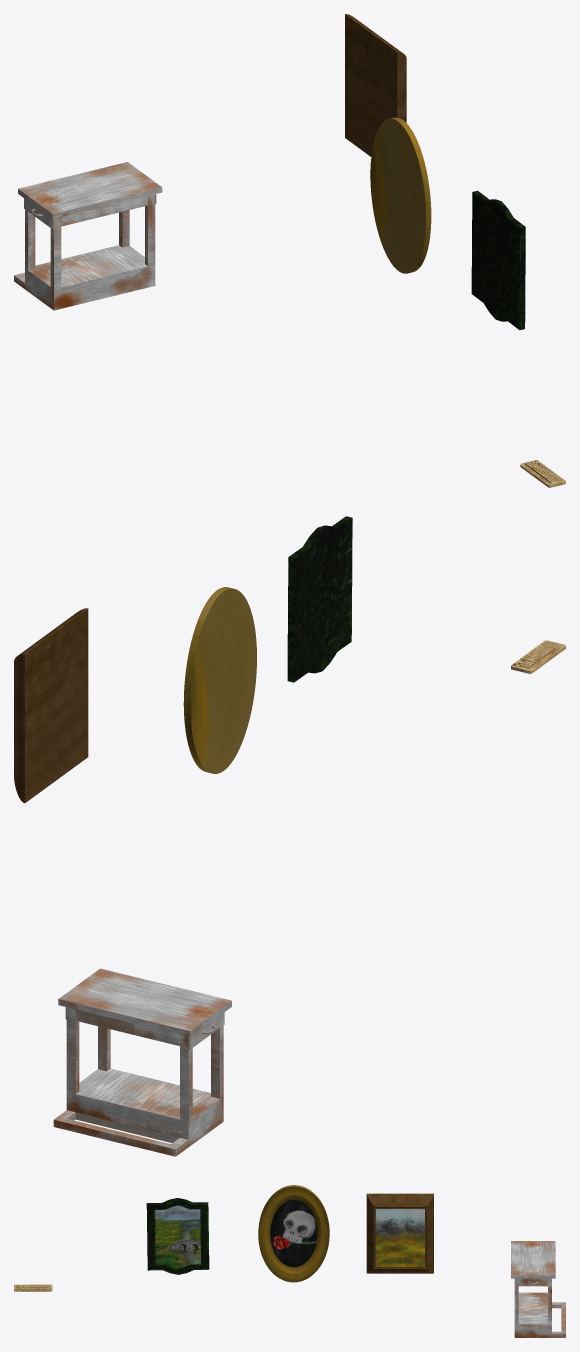
File: DMAssets2.fbx
3 renders of one model, top to bottom at view 1: azimuth 30°, elevation 25°; view 2: azimuth 150°, elevation 25°; view 3: azimuth 270°, elevation 25°, orthographic. The views are drawn at different scales.
Parts seen in each view (by area): view 1: Cube.282, Cylinder.025_Cylinder.031, Cube.040_Cube.039, Cube.005_Cube.038, Cube.419; view 2: Cube.282, Cube.040_Cube.039, Cylinder.025_Cylinder.031, Cube.005_Cube.038, Cube.419; view 3: Cylinder.025_Cylinder.031, Cube.040_Cube.039, Cube.005_Cube.038, Cube.282, Cube.419.
Boxes of the visible parts, x1,y1,x2,y2 form: Cube.282: (14,162,162,310); Cylinder.025_Cylinder.031: (370,117,431,273); Cube.040_Cube.039: (345,14,406,156); Cube.005_Cube.038: (471,190,525,330); Cube.419: (520,460,565,487); Cube.282: (53,968,231,1156); Cube.040_Cube.039: (14,608,88,803); Cylinder.025_Cylinder.031: (183,587,256,773); Cube.005_Cube.038: (287,516,352,682); Cube.419: (511,640,565,673); Cylinder.025_Cylinder.031: (258,1185,329,1282); Cube.040_Cube.039: (366,1193,433,1273); Cube.005_Cube.038: (146,1198,209,1274); Cube.282: (511,1241,565,1337); Cube.419: (14,1284,52,1291).
Bounding box in the file's own units: 993 × 1089 × 2962.
